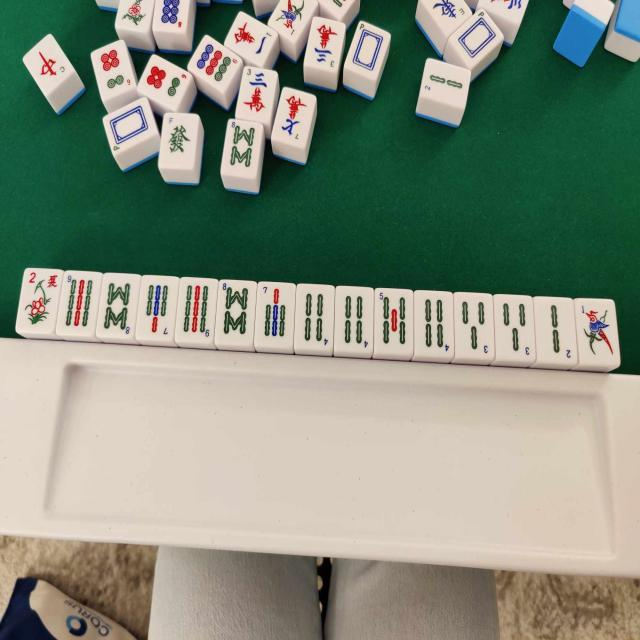bs2: (18, 270, 56, 328)
sb1: (580, 302, 616, 360)
sb2: (538, 302, 575, 362)
sb3: (456, 296, 492, 356), (497, 298, 532, 356)
sb4: (416, 293, 452, 352), (297, 286, 332, 345), (337, 293, 372, 352)
sb5: (374, 289, 410, 348)
sb7: (260, 285, 294, 343), (144, 281, 176, 339)
sb8: (218, 284, 254, 343), (104, 281, 138, 338)
sb9: (62, 274, 96, 332), (182, 279, 215, 337)
